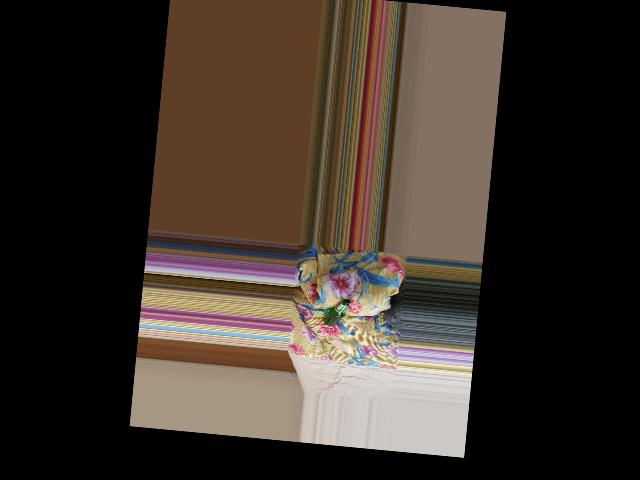beer: (323, 296, 350, 327)
